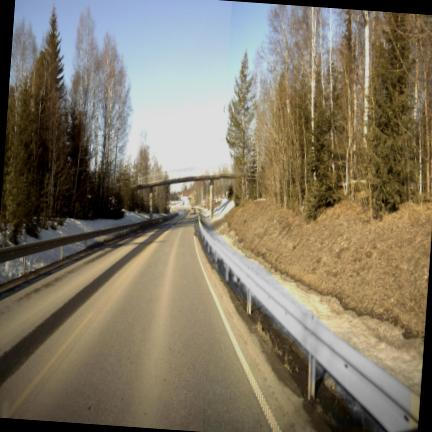Road: (0, 212, 273, 431)
